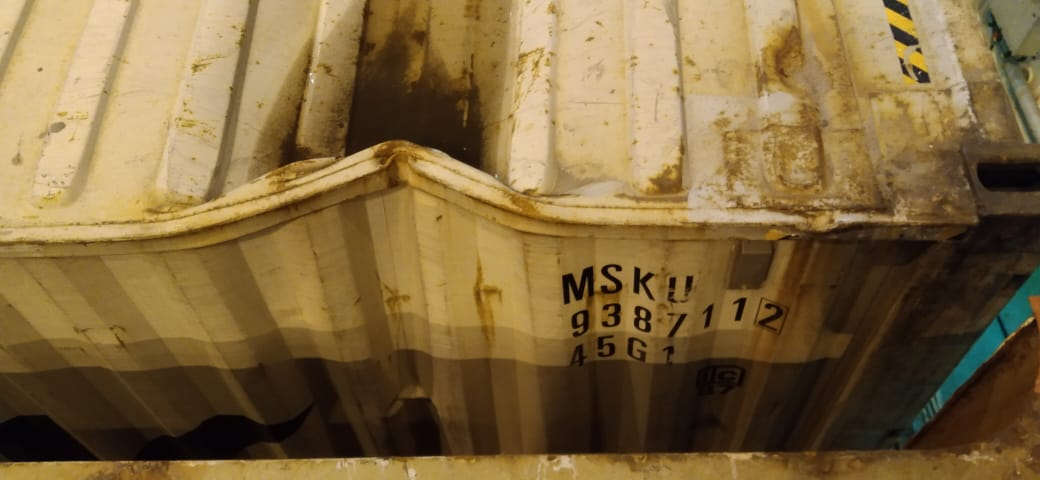moderate: (250, 28, 543, 240)
